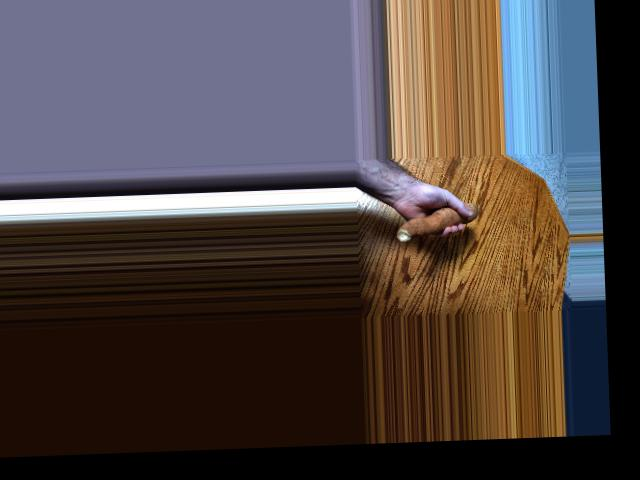sweet_potato: (390, 204, 482, 241)
